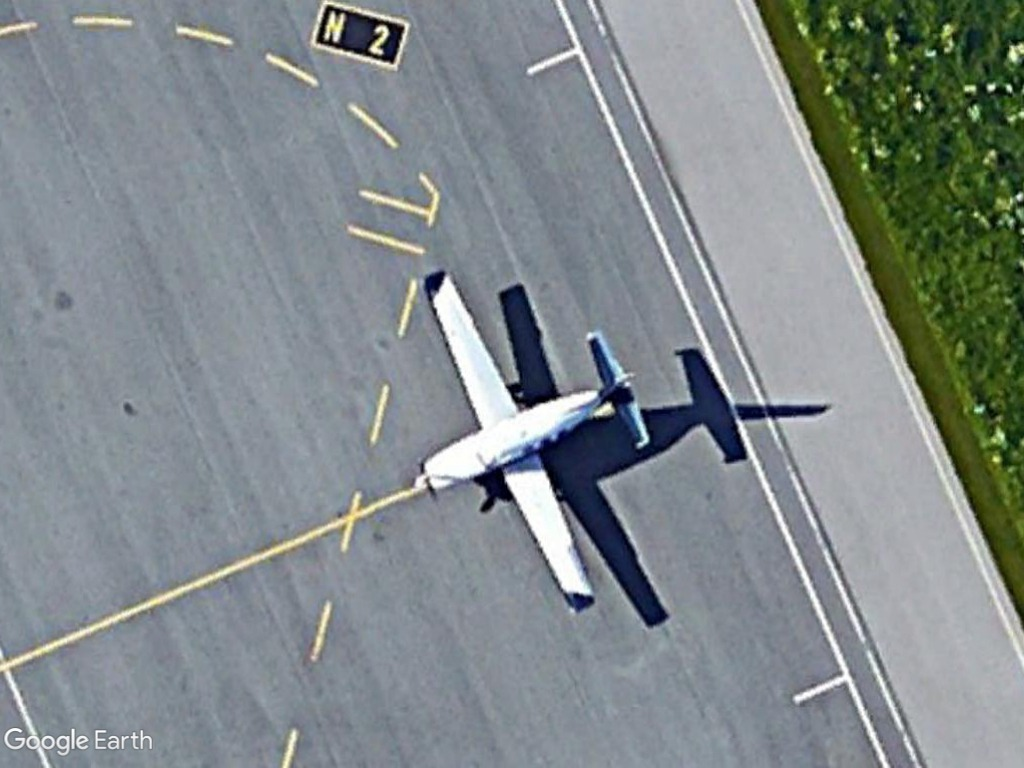trainer: (408, 264, 657, 617)
